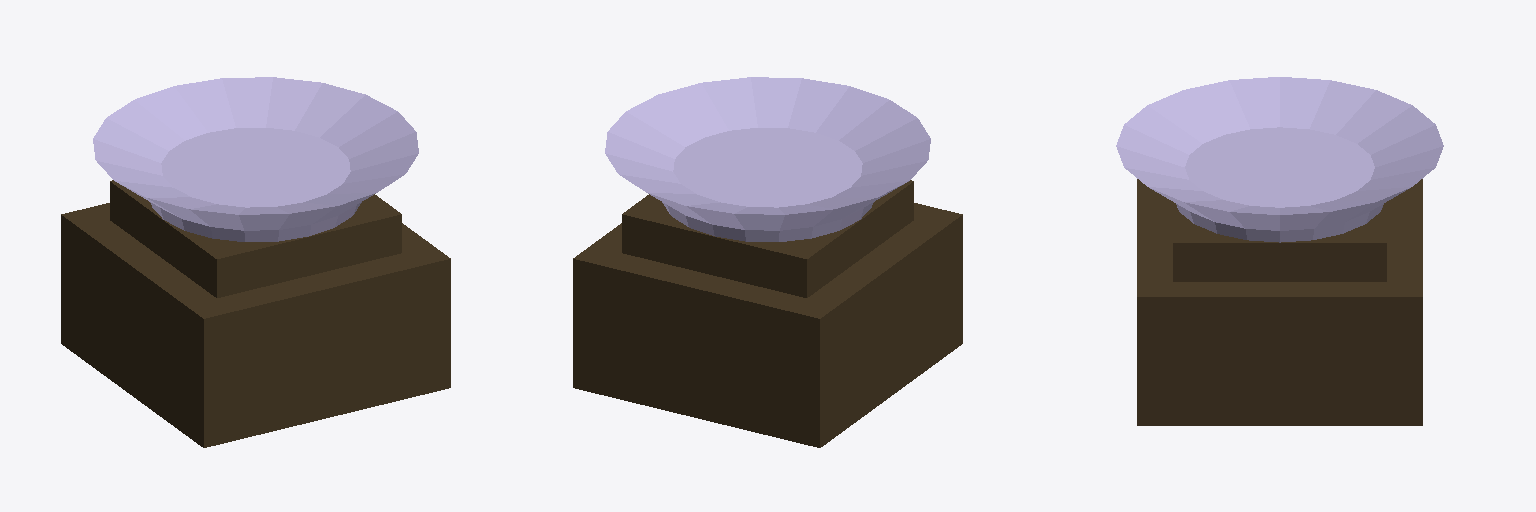
3 views of the same model, side by side, from view 1: azimuth 30°, elevation 25°; view 2: azimuth 150°, elevation 25°; view 3: azimuth 270°, elevation 25° (orthographic).
Visible parts, largest first — view 1: plate3:polySurface3; view 2: plate3:polySurface3; view 3: plate3:polySurface3.
Boxes of the visible parts, <box> form: plate3:polySurface3: <box>61,77,450,447</box>; plate3:polySurface3: <box>573,77,962,447</box>; plate3:polySurface3: <box>1116,77,1443,425</box>.
Bounding box in the file's own units: 1.15 × 0.85 × 1.15.
Materials: 2 (2 with a texture image).